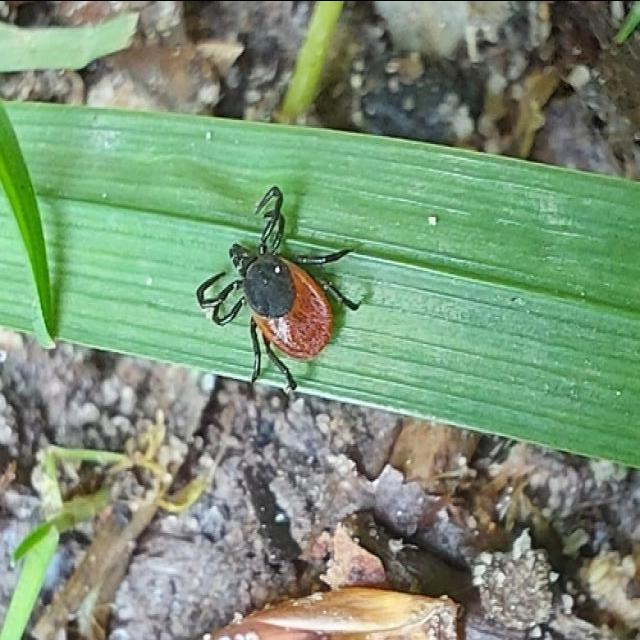Ixodes Ricinus-F: (196, 184, 364, 389)
